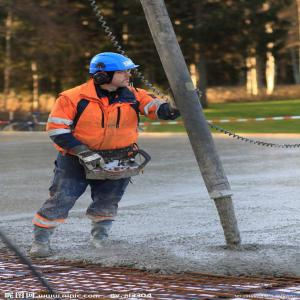blue: (88, 53, 134, 90)
